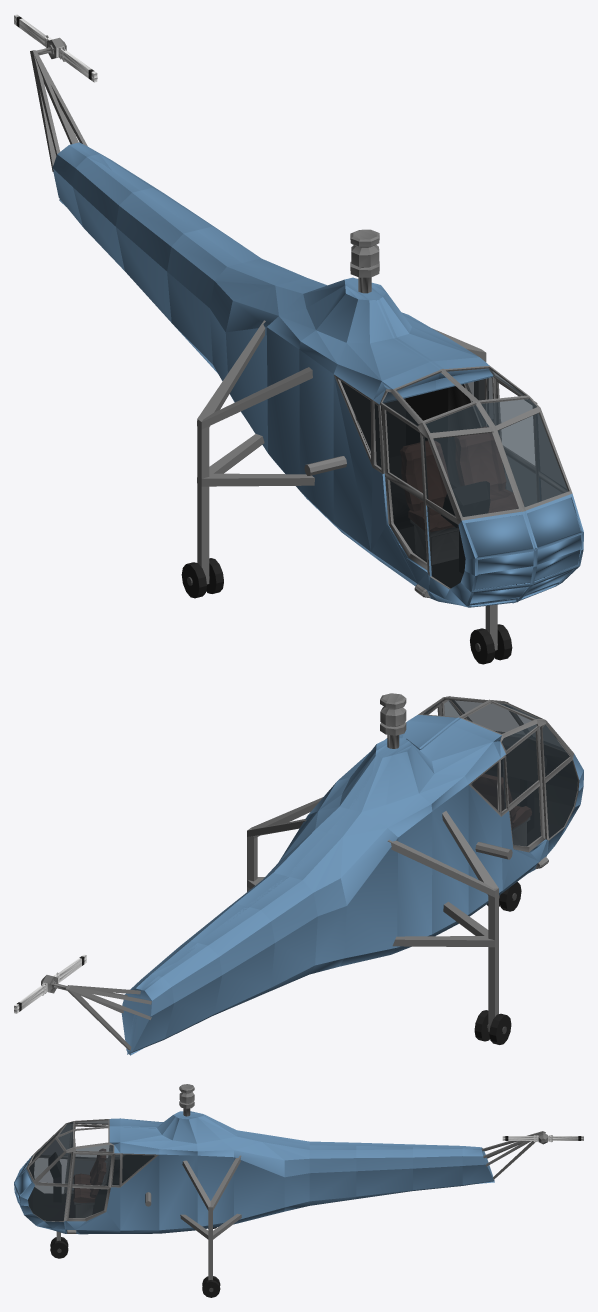
The model's file is aircraft_15.glb.
3 views of the same model, one above another, from view 1: azimuth 30°, elevation 25°; view 2: azimuth 150°, elevation 25°; view 3: azimuth 270°, elevation 25° (orthographic). The views are drawn at different scales.
Parts seen in each view (by area): view 1: fuselage, seats, door right, upper supports right, tail assembly, lower supports right, gear strut right, rotor shaft, door left, instrument panel, WheelAndAxleFront, WheelAndAxle right (+1 smaller); view 2: fuselage, door right, upper supports right, tail assembly, lower supports right, gear strut right, instrument panel, seats, rotor shaft, upper supports left, WheelAndAxle right, tail rotor (+2 smaller); view 3: fuselage, door left, seats, tail assembly, upper supports left, door right, lower supports left, rotor shaft, instrument panel, tail rotor, gear strut left, WheelAndAxleFront (+1 smaller).
Boxes of the visible parts, left/top/right/bottom form: fuselage: left=52, top=142, right=583, bottom=607; seats: left=400, top=426, right=522, bottom=564; door right: left=381, top=406, right=431, bottom=570; upper supports right: left=197, top=320, right=312, bottom=429; tail assembly: left=30, top=37, right=87, bottom=171; lower supports right: left=197, top=434, right=314, bottom=486; gear strut right: left=197, top=419, right=209, bottom=584; rotor shaft: left=350, top=229, right=379, bottom=293; door left: left=494, top=378, right=537, bottom=506; instrument panel: left=441, top=481, right=489, bottom=573; WheelAndAxleFront: left=470, top=624, right=512, bottom=664; WheelAndAxle right: left=181, top=558, right=223, bottom=598; fuselage: left=121, top=696, right=583, bottom=1055; door right: left=503, top=726, right=545, bottom=852; upper supports right: left=387, top=811, right=498, bottom=897; tail assembly: left=41, top=975, right=151, bottom=1050; lower supports right: left=392, top=901, right=494, bottom=947; gear strut right: left=488, top=888, right=498, bottom=1031; instrument panel: left=507, top=747, right=546, bottom=832; seats: left=472, top=774, right=531, bottom=845; rotor shaft: left=380, top=693, right=406, bottom=748; upper supports left: left=247, top=797, right=322, bottom=838; WheelAndAxle right: left=474, top=1010, right=511, bottom=1044; tail rotor: left=14, top=954, right=86, bottom=1013; fuselage: left=14, top=1111, right=494, bottom=1234; door left: left=66, top=1152, right=114, bottom=1221; seats: left=73, top=1149, right=105, bottom=1217; tail assembly: left=482, top=1131, right=547, bottom=1179; upper supports left: left=182, top=1155, right=241, bottom=1210; door right: left=66, top=1124, right=111, bottom=1193; lower supports left: left=180, top=1213, right=241, bottom=1239; rotor shaft: left=179, top=1084, right=194, bottom=1116; instrument panel: left=48, top=1152, right=61, bottom=1202; tail rotor: left=502, top=1135, right=583, bottom=1142; gear strut left: left=208, top=1206, right=212, bottom=1280; WheelAndAxleFront: left=50, top=1237, right=68, bottom=1258.
Bounding box in the file's own units: 3.96 × 4.27 × 12.68.
